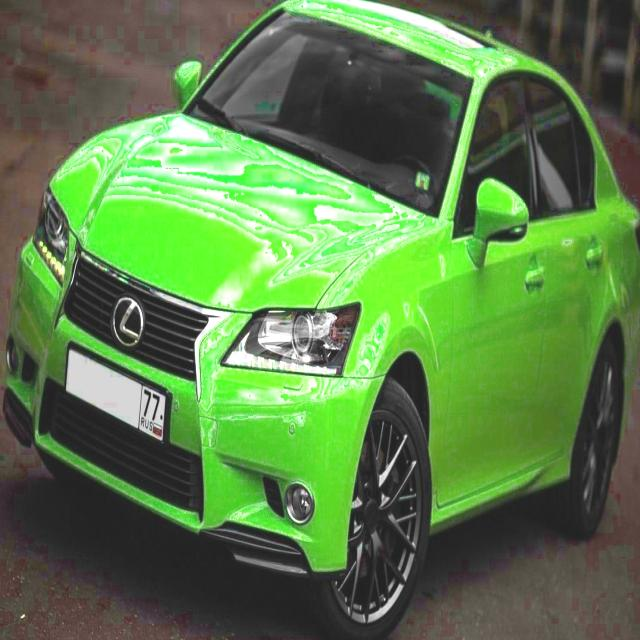green: (7, 9, 640, 622)
